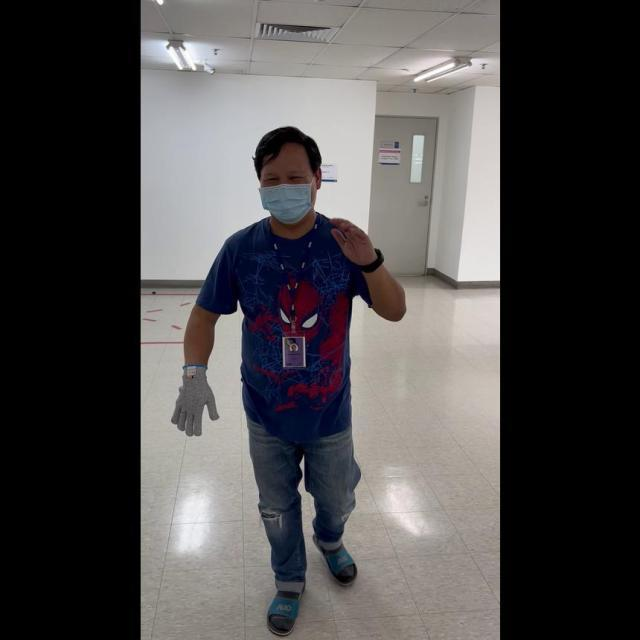bare_hand: (327, 214, 377, 266)
gloved_hand: (169, 362, 219, 434)
